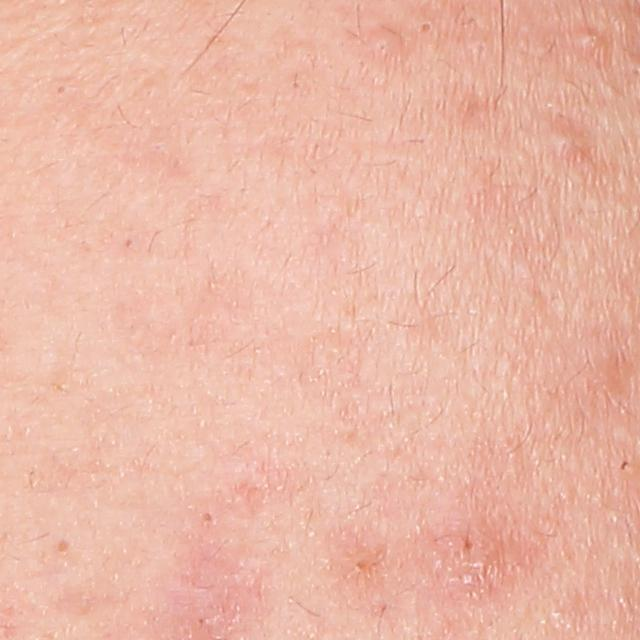comedo: (52, 535, 73, 559), (54, 79, 68, 99), (200, 510, 215, 524)
papule: (439, 525, 503, 583), (550, 128, 583, 162)
